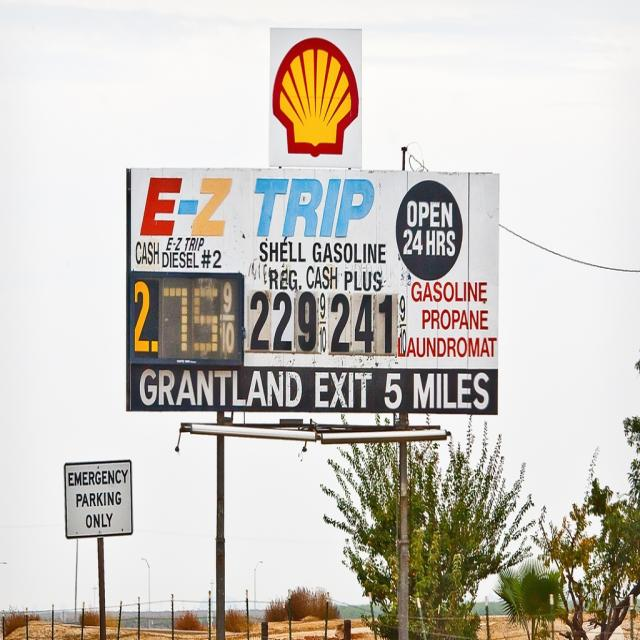shell: (272, 39, 361, 161)
